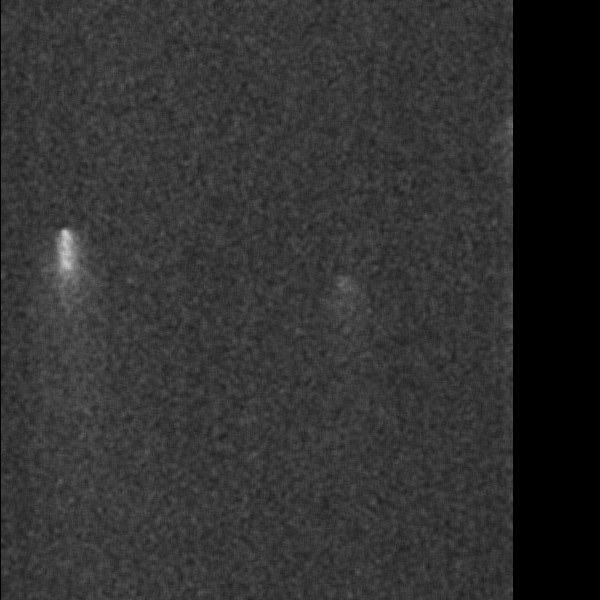spark: (54, 222, 79, 273), (331, 272, 353, 313)
